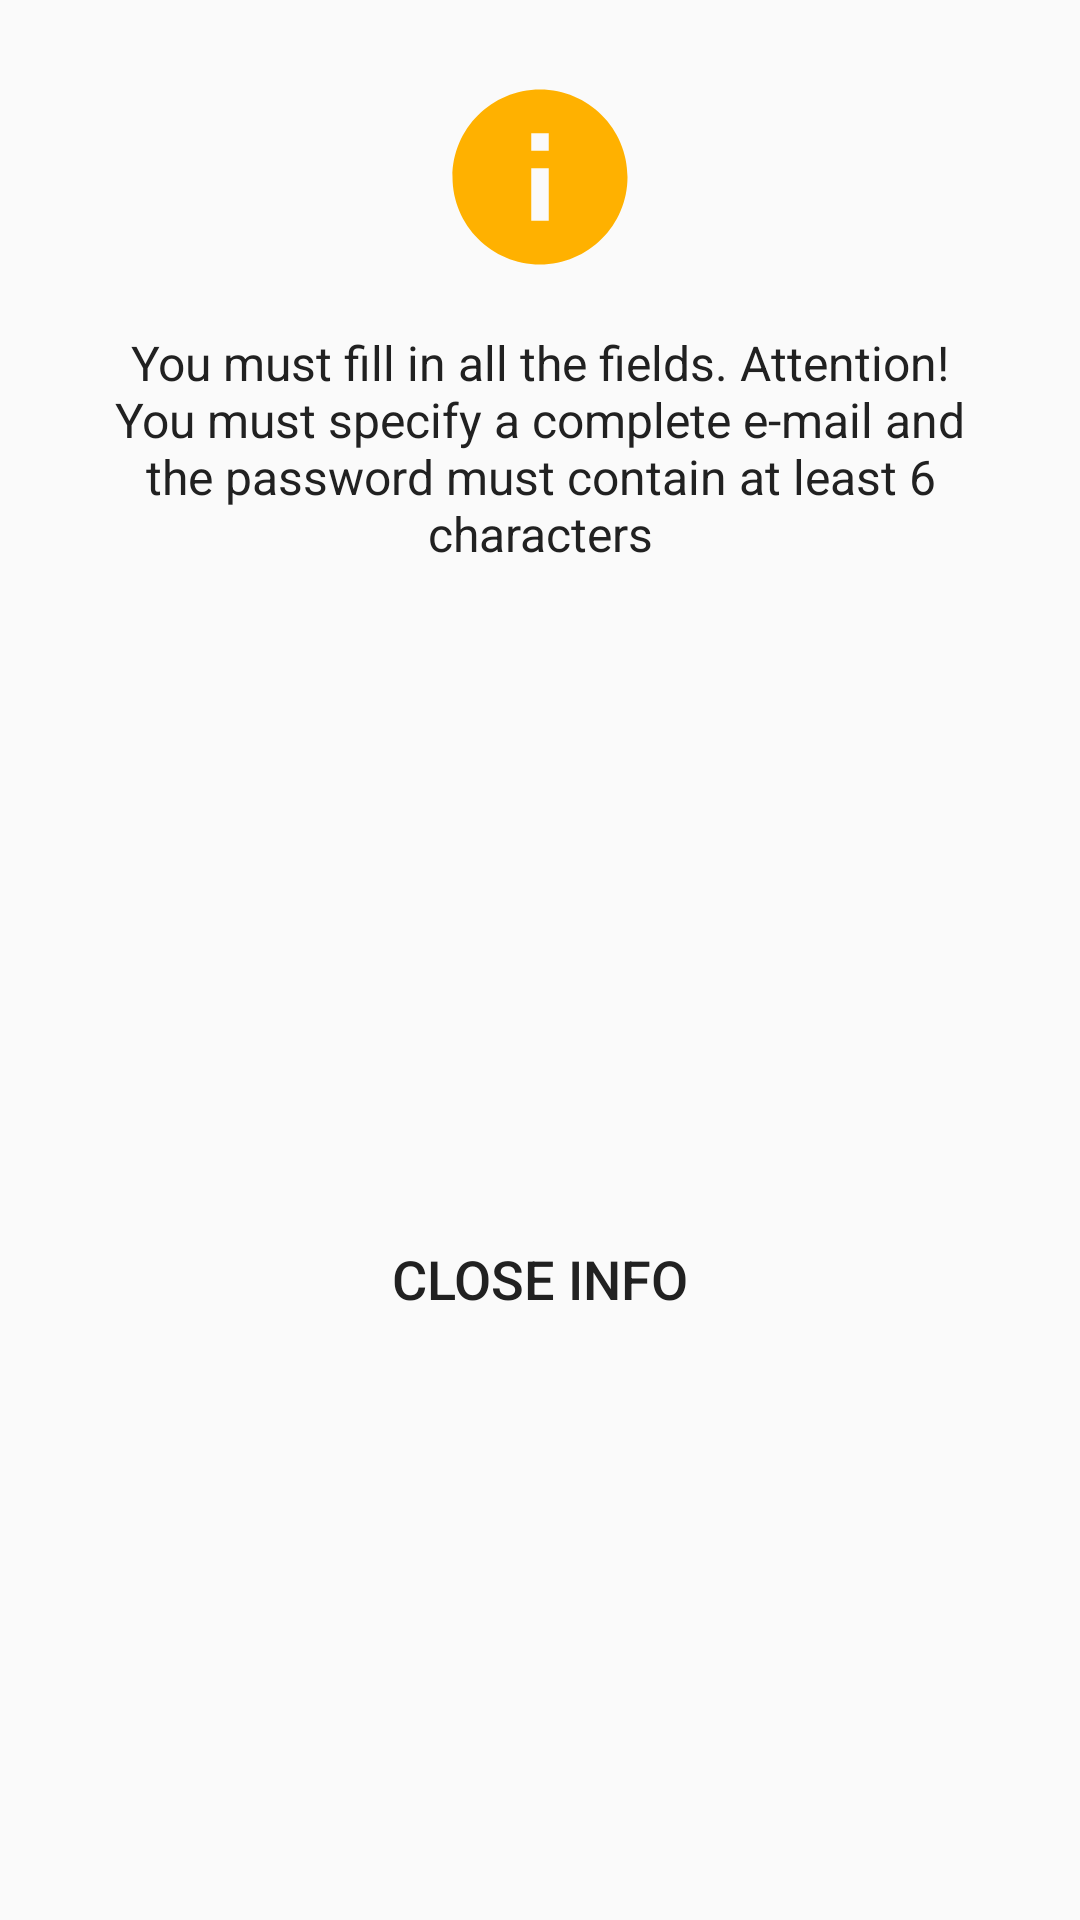

Named icons in this screenshot (1080w x 1920h) and their bounding boxes, (x1, y1, x2, y2):
info: (452, 89, 628, 265)
